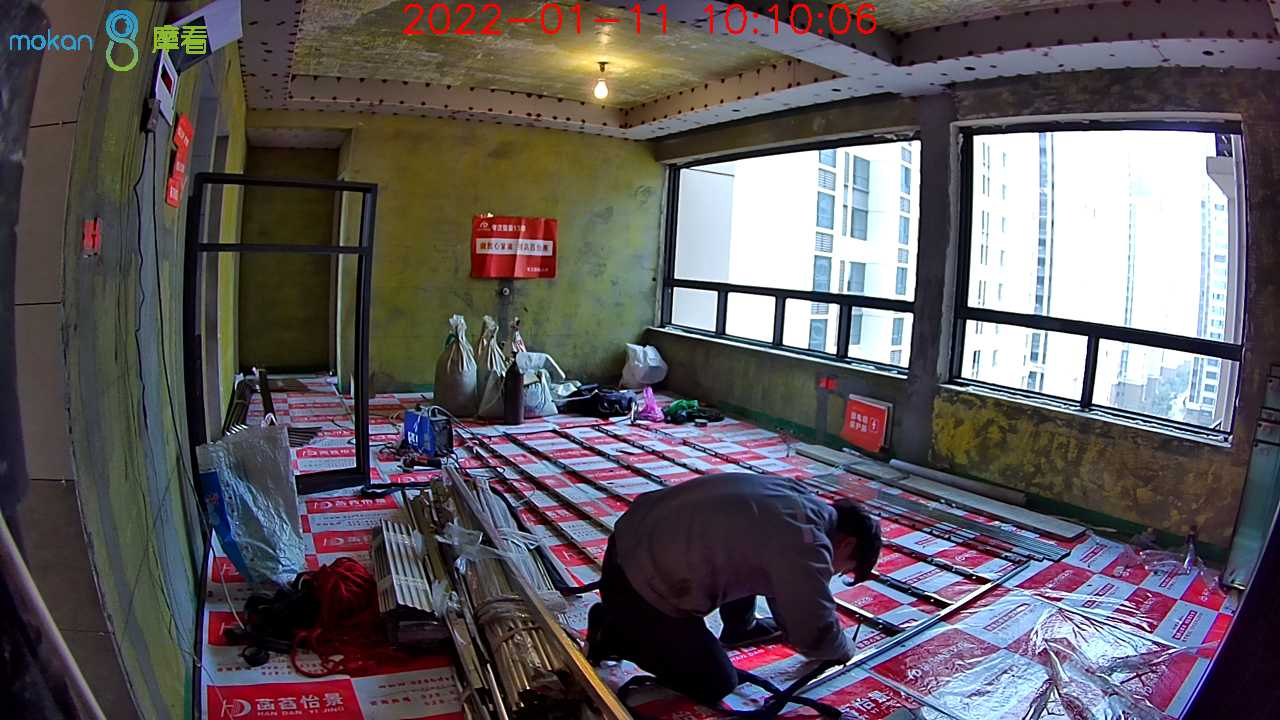people: (601, 474, 885, 699)
window: (659, 129, 1243, 429)
